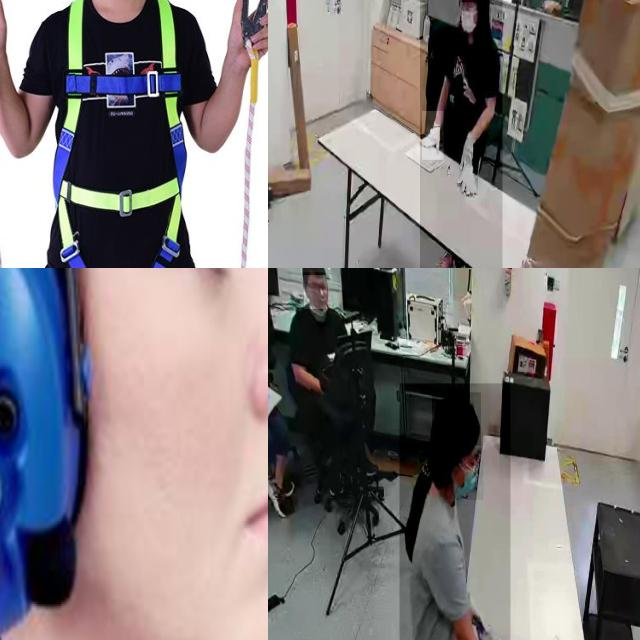Ear-protection: (0, 268, 268, 640)
Harness: (48, 0, 183, 268), (223, 0, 268, 62)
No_Glasses: (149, 268, 268, 322)
face_mask: (444, 447, 484, 500), (458, 2, 482, 44)
face_nomask: (304, 275, 328, 310)
hand_glove: (422, 111, 444, 160), (459, 138, 478, 192)
head_nohelmet: (432, 392, 482, 447), (300, 268, 325, 273)
person: (399, 383, 510, 640), (420, 0, 503, 268), (285, 268, 340, 487)
shoes: (268, 471, 292, 521), (429, 244, 457, 268)
